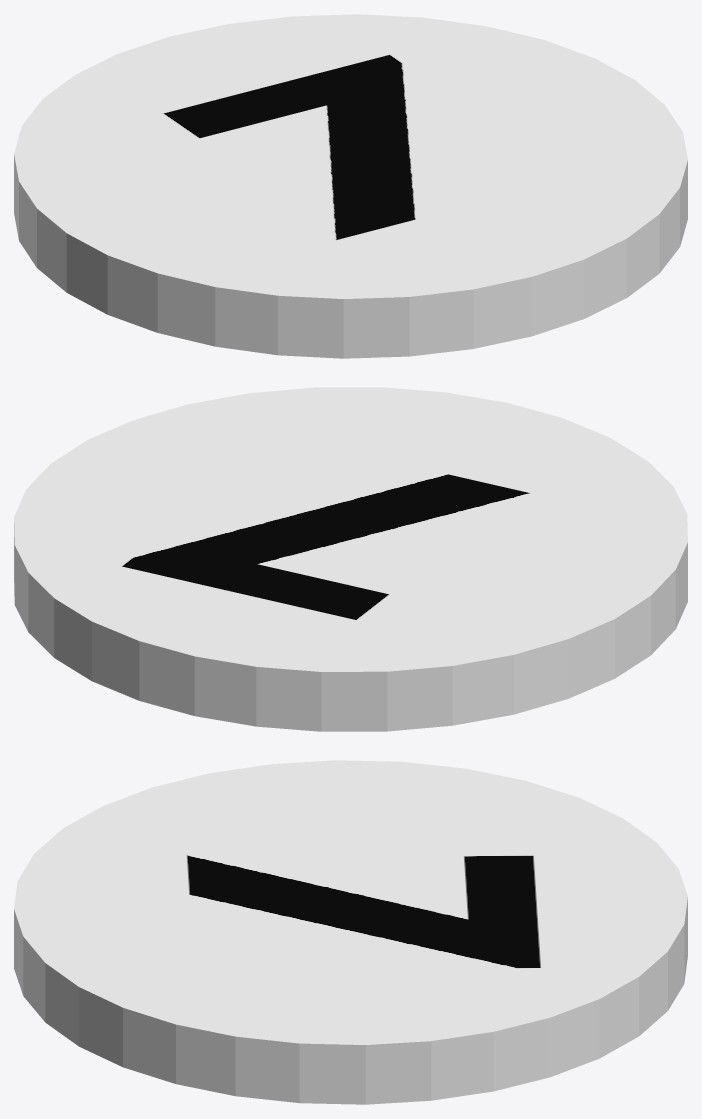
The model's file is Tujuh.fbx.
3 views of the same model, one above another, from view 1: azimuth 30°, elevation 25°; view 2: azimuth 150°, elevation 25°; view 3: azimuth 270°, elevation 25° (orthographic).
Visible parts, largest first — view 1: Cylinder; view 2: Cylinder; view 3: Cylinder.
Part boxes in pixels (x1=…): Cylinder: x1=14, y1=14, x2=687, y2=358; Cylinder: x1=14, y1=387, x2=687, y2=731; Cylinder: x1=14, y1=760, x2=687, y2=1104.
Bounding box in the file's own units: 243 × 23.72 × 243.
